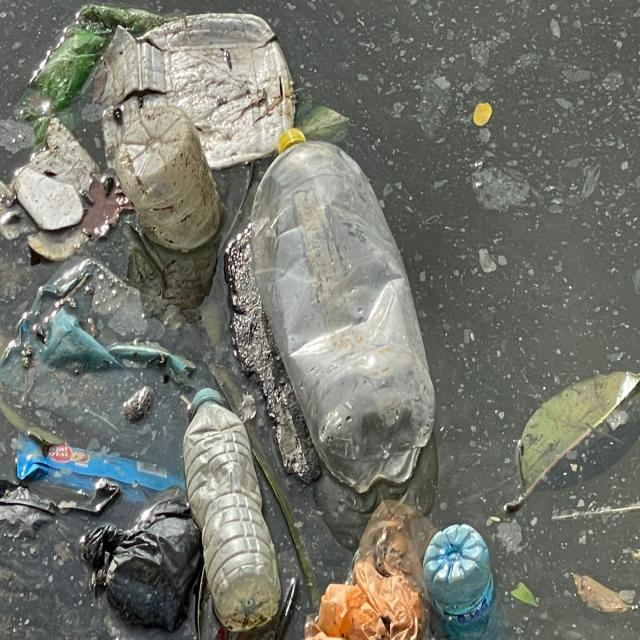Botol Plastik: (250, 127, 443, 485), (181, 383, 289, 630), (112, 112, 228, 250), (414, 510, 509, 640)
Bungkus Makanan: (99, 11, 302, 162), (14, 428, 192, 507)
Kantong Plastik: (3, 252, 212, 452), (302, 502, 438, 640), (81, 488, 205, 633)
